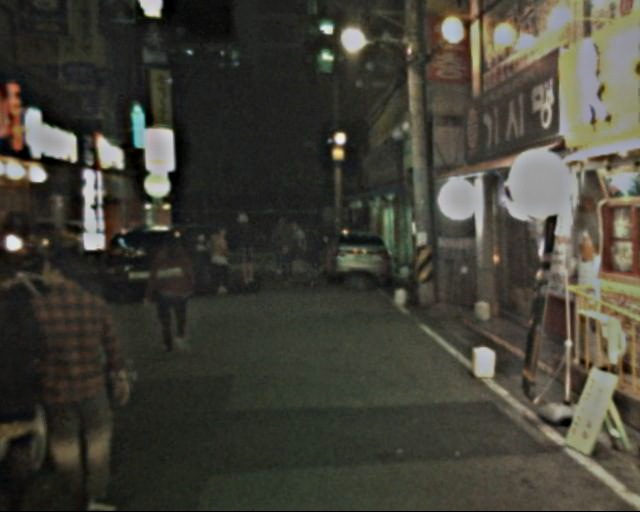person: (20, 249, 140, 506), (1, 231, 51, 507), (152, 237, 197, 347), (204, 218, 239, 298), (230, 208, 262, 289), (271, 211, 298, 288), (305, 222, 331, 294)
